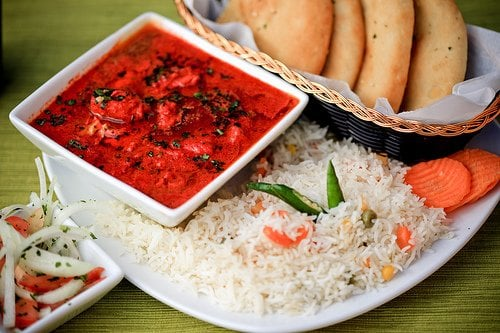pasta: (204, 0, 470, 117)
sushi: (17, 14, 309, 227)
